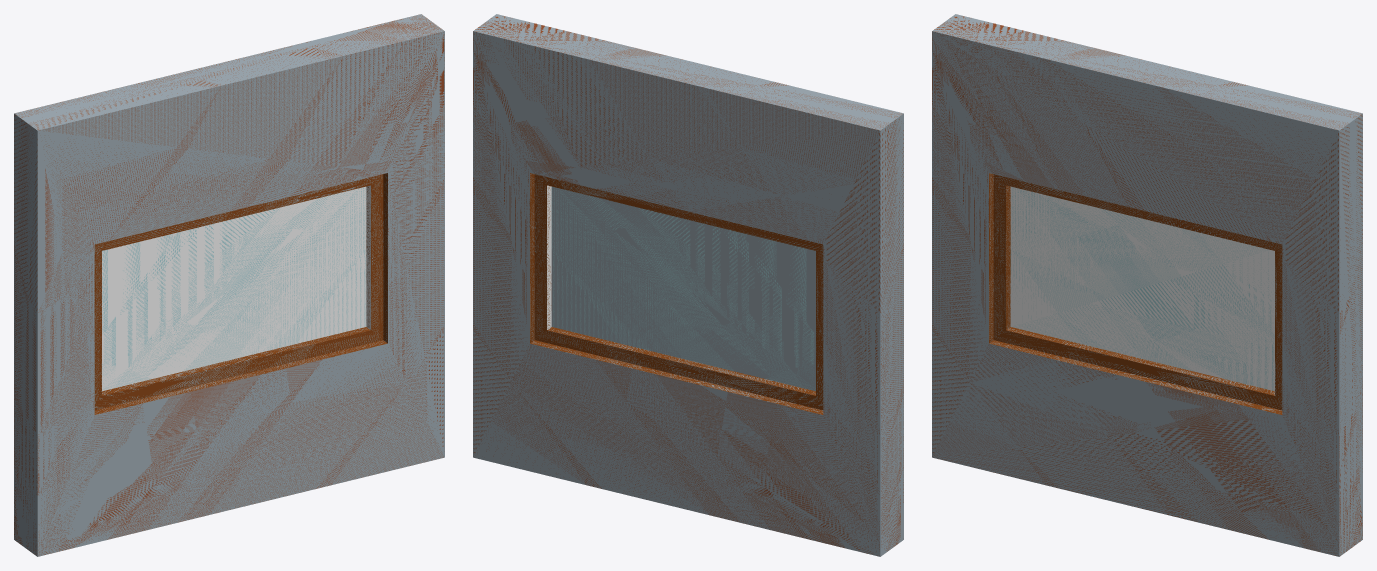
The model's file is wall_window_4.fbx.
3 renders of one model, left to right at view 1: azimuth 30°, elevation 25°; view 2: azimuth 150°, elevation 25°; view 3: azimuth 330°, elevation 25°, orthographic.
Visible parts, largest first — view 1: Mesh1_window_10_1 Model; view 2: Mesh1_window_10_1 Model; view 3: Mesh1_window_10_1 Model.
Part boxes in pixels (bbox=[...]): Mesh1_window_10_1 Model: bbox=[14, 14, 444, 556]; Mesh1_window_10_1 Model: bbox=[473, 14, 903, 556]; Mesh1_window_10_1 Model: bbox=[932, 14, 1362, 556].
Bounding box in the file's own units: 1 × 1 × 0.1.
